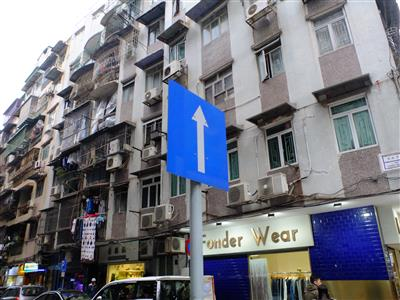oneway: (158, 69, 241, 200)
